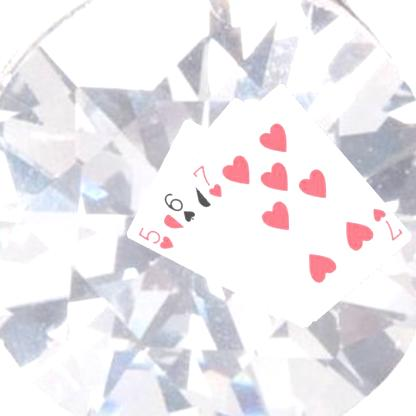5H: (135, 224, 175, 251)
6S: (160, 190, 197, 224)
7H: (369, 205, 404, 243), (189, 162, 223, 199)
